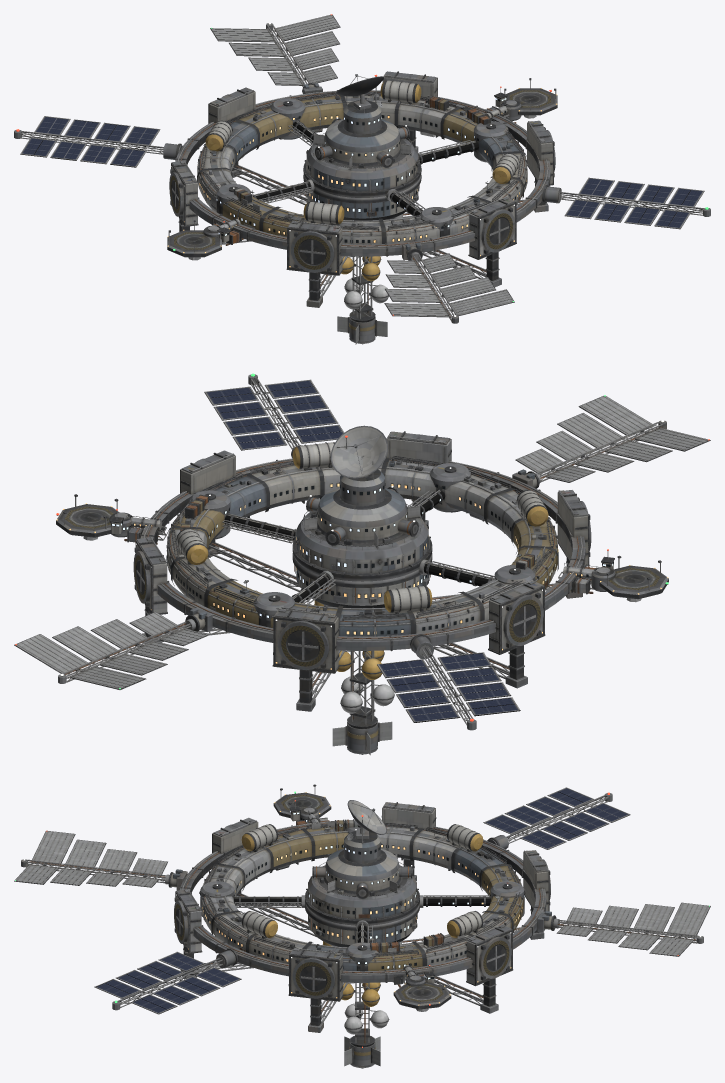
File: station_home.glb
3 views of the same model, one above another, from view 1: azimuth 30°, elevation 25°; view 2: azimuth 150°, elevation 25°; view 3: azimuth 270°, elevation 25° (orthographic). The views are drawn at different scales.
Parts seen in each view (by area): view 1: station_ring, station_bays, station_core, station_radiators, station_solar, station_docks; view 2: station_ring, station_bays, station_core, station_radiators, station_solar, station_docks; view 3: station_ring, station_bays, station_core, station_radiators, station_solar, station_docks.
Part boxes in pixels (x1,y1,x2,y2): station_ring: [197, 80, 527, 244]; station_bays: [169, 71, 555, 307]; station_core: [303, 74, 421, 344]; station_radiators: [210, 14, 514, 323]; station_solar: [14, 116, 710, 229]; station_docks: [167, 78, 557, 260]; station_ring: [166, 442, 558, 636]; station_bays: [133, 431, 591, 711]; station_core: [292, 425, 432, 755]; station_radiators: [14, 395, 710, 689]; station_solar: [204, 373, 520, 730]; station_docks: [56, 494, 668, 602]; station_ring: [199, 819, 525, 983]; station_bays: [174, 802, 550, 1032]; station_core: [305, 800, 419, 1068]; station_radiators: [14, 830, 710, 956]; station_solar: [94, 787, 630, 1014]; station_docks: [273, 784, 451, 1011].
Size of the model in its own units: 133 by 72.52 by 173.
10 materials, 2 textured.
